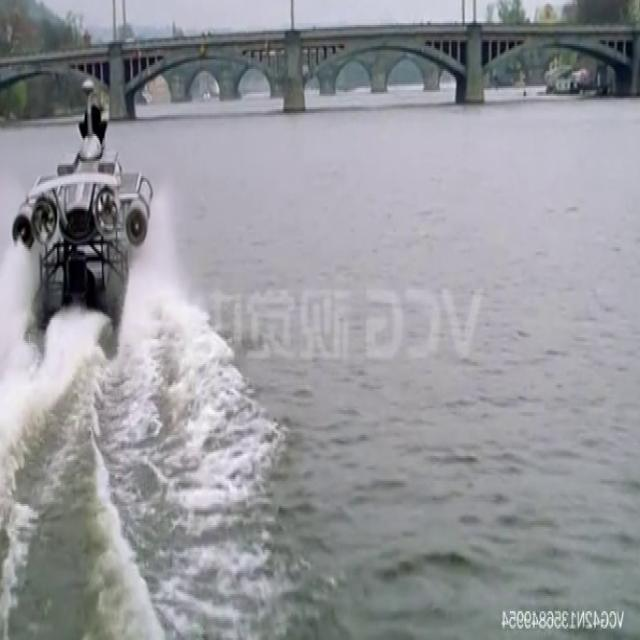houseboat: (13, 96, 158, 347)
